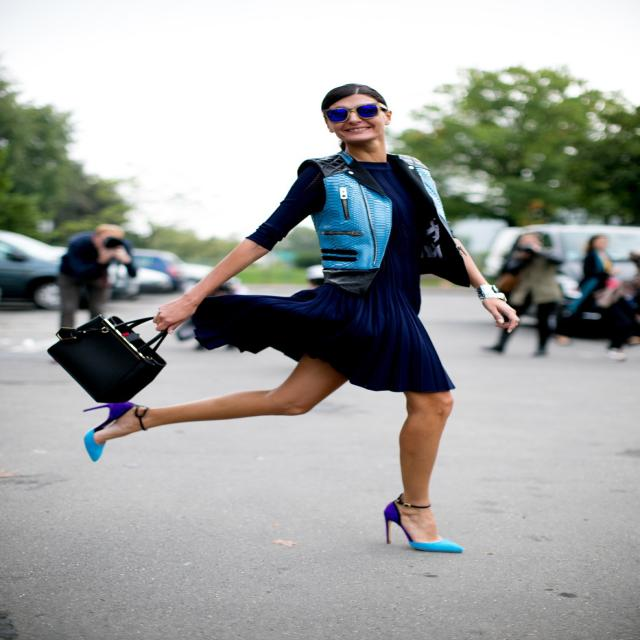body: (38, 78, 520, 557), (482, 228, 570, 358), (557, 232, 639, 354), (55, 222, 138, 330), (165, 278, 248, 354), (594, 234, 622, 290)
